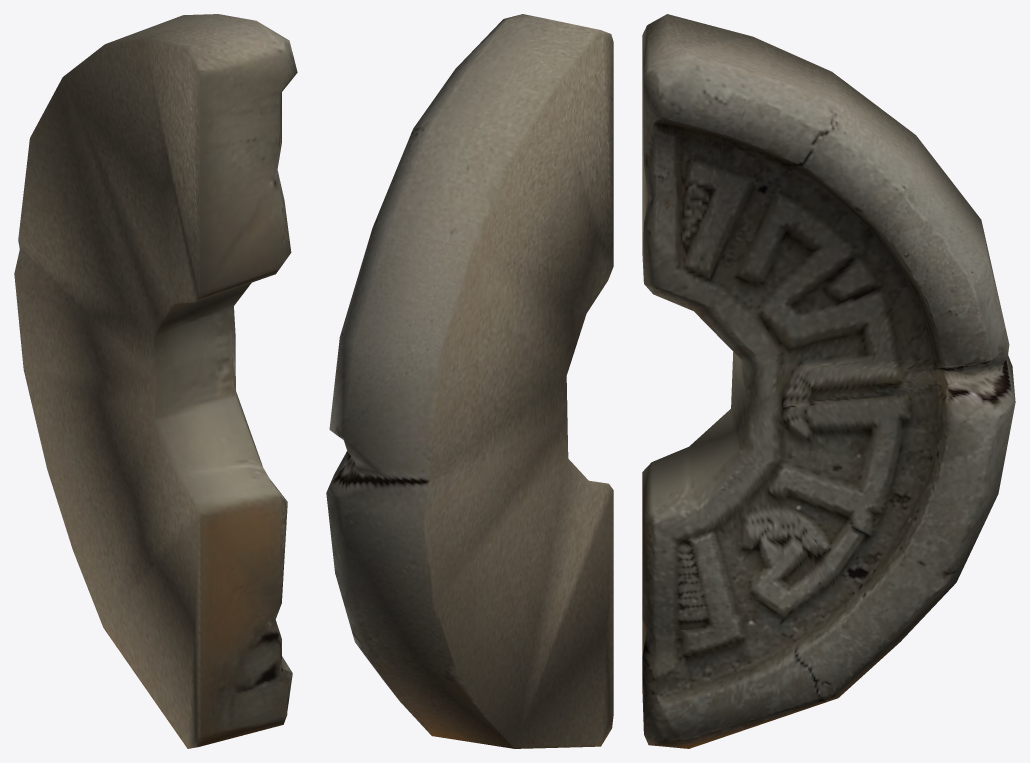
Rendered from moonstone_right.glb.
The picture shows the model from 3 angles, left to right: view 1: azimuth 30°, elevation 25°; view 2: azimuth 150°, elevation 25°; view 3: azimuth 270°, elevation 25°; orthographic projection. The views are drawn at different scales.
Visible parts, largest first — view 1: moonstone_right; view 2: moonstone_right; view 3: moonstone_right.
Boxes of the visible parts, left/top/right/bottom form: moonstone_right: left=14, top=14, right=297, bottom=748; moonstone_right: left=326, top=14, right=613, bottom=748; moonstone_right: left=642, top=14, right=1015, bottom=748.
Size of the model in its own units: 0.1543 by 0.9688 by 0.4688.
Materials: 1 (1 with a texture image).
